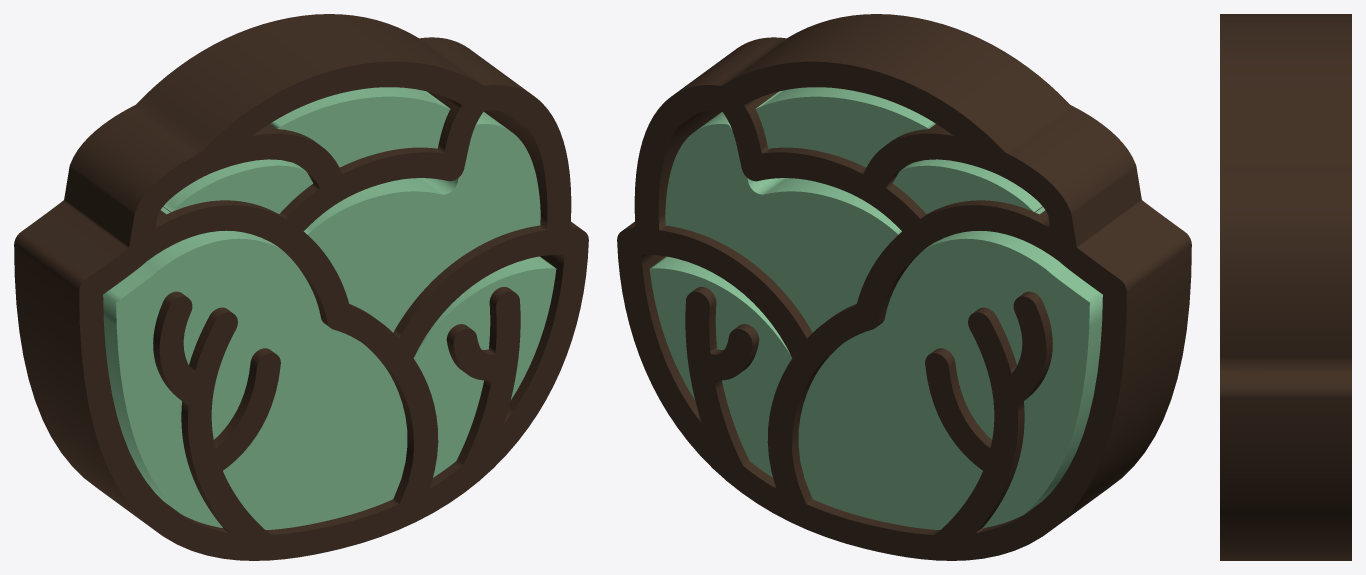
Rendered from Cabbage.fbx.
The picture shows the model from 3 angles, left to right: view 1: azimuth 30°, elevation 25°; view 2: azimuth 150°, elevation 25°; view 3: azimuth 270°, elevation 25°; orthographic projection.
Visible parts, largest first — view 1: Curve.056, Curve.003, Curve.020, Curve, Curve.025, Curve.048; view 2: Curve.056, Curve.003, Curve.020, Curve, Curve.025, Curve.048; view 3: Curve.056.
Boxes of the visible parts, left/top/right/bottom form: Curve.056: left=14, top=14, right=588, bottom=560; Curve.003: left=103, top=230, right=407, bottom=529; Curve.020: left=304, top=111, right=540, bottom=332; Curve: left=413, top=256, right=556, bottom=477; Curve.025: left=270, top=87, right=450, bottom=167; Curve.048: left=160, top=159, right=313, bottom=214; Curve.056: left=617, top=14, right=1191, bottom=560; Curve.003: left=798, top=231, right=1102, bottom=529; Curve.020: left=665, top=112, right=901, bottom=332; Curve: left=649, top=256, right=792, bottom=477; Curve.025: left=755, top=87, right=935, bottom=167; Curve.048: left=892, top=159, right=1045, bottom=214; Curve.056: left=1220, top=14, right=1351, bottom=560.
Bounding box in the file's own units: 90.52 × 81.55 × 20.01.
